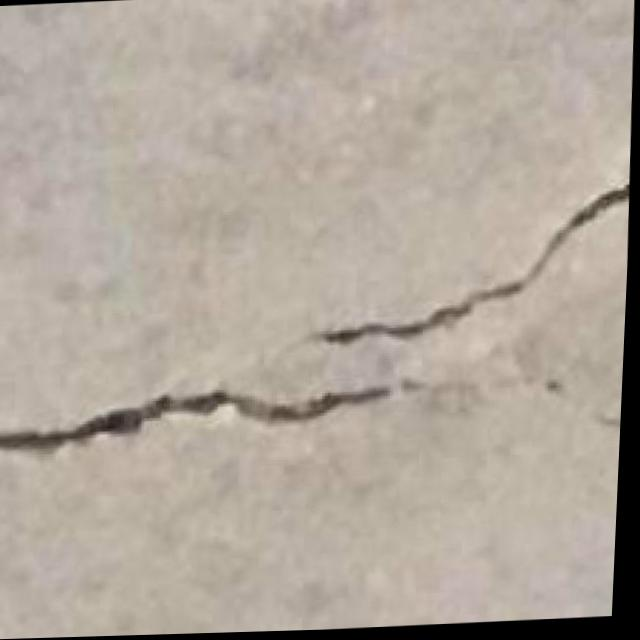Crack: (0, 171, 634, 482)
